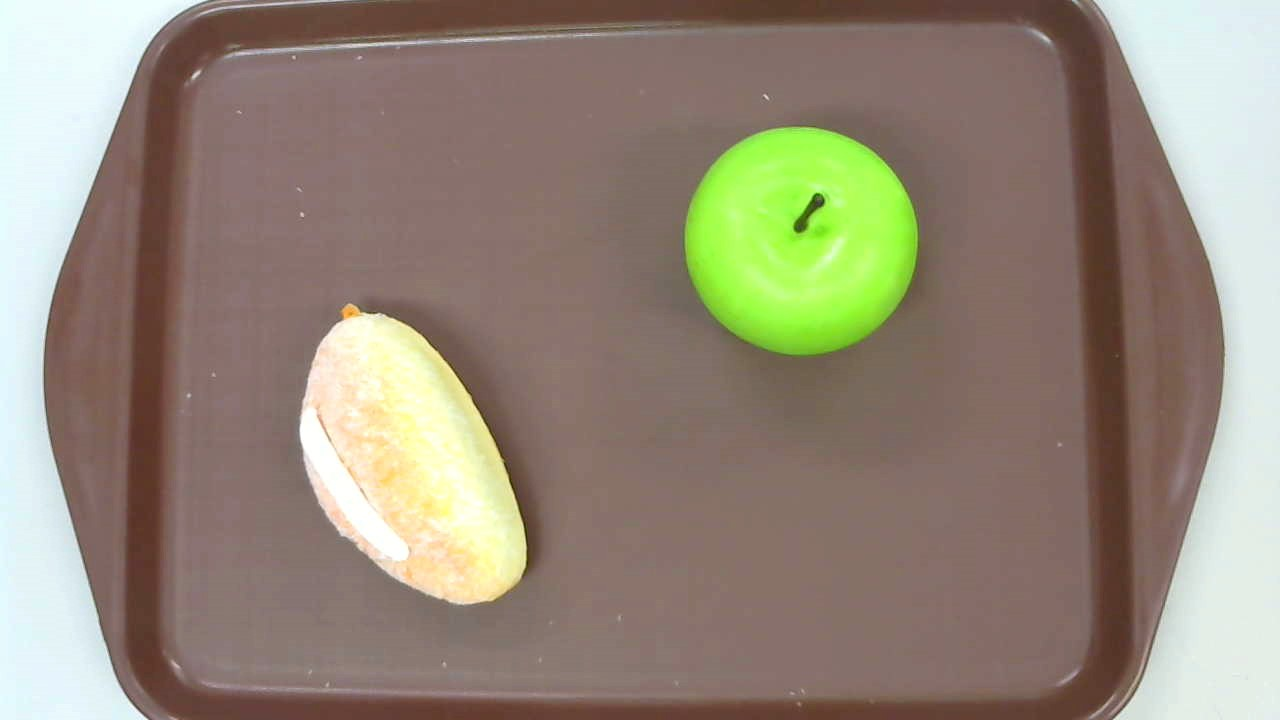coconut: (297, 303, 529, 606)
green apple: (684, 126, 916, 358)
